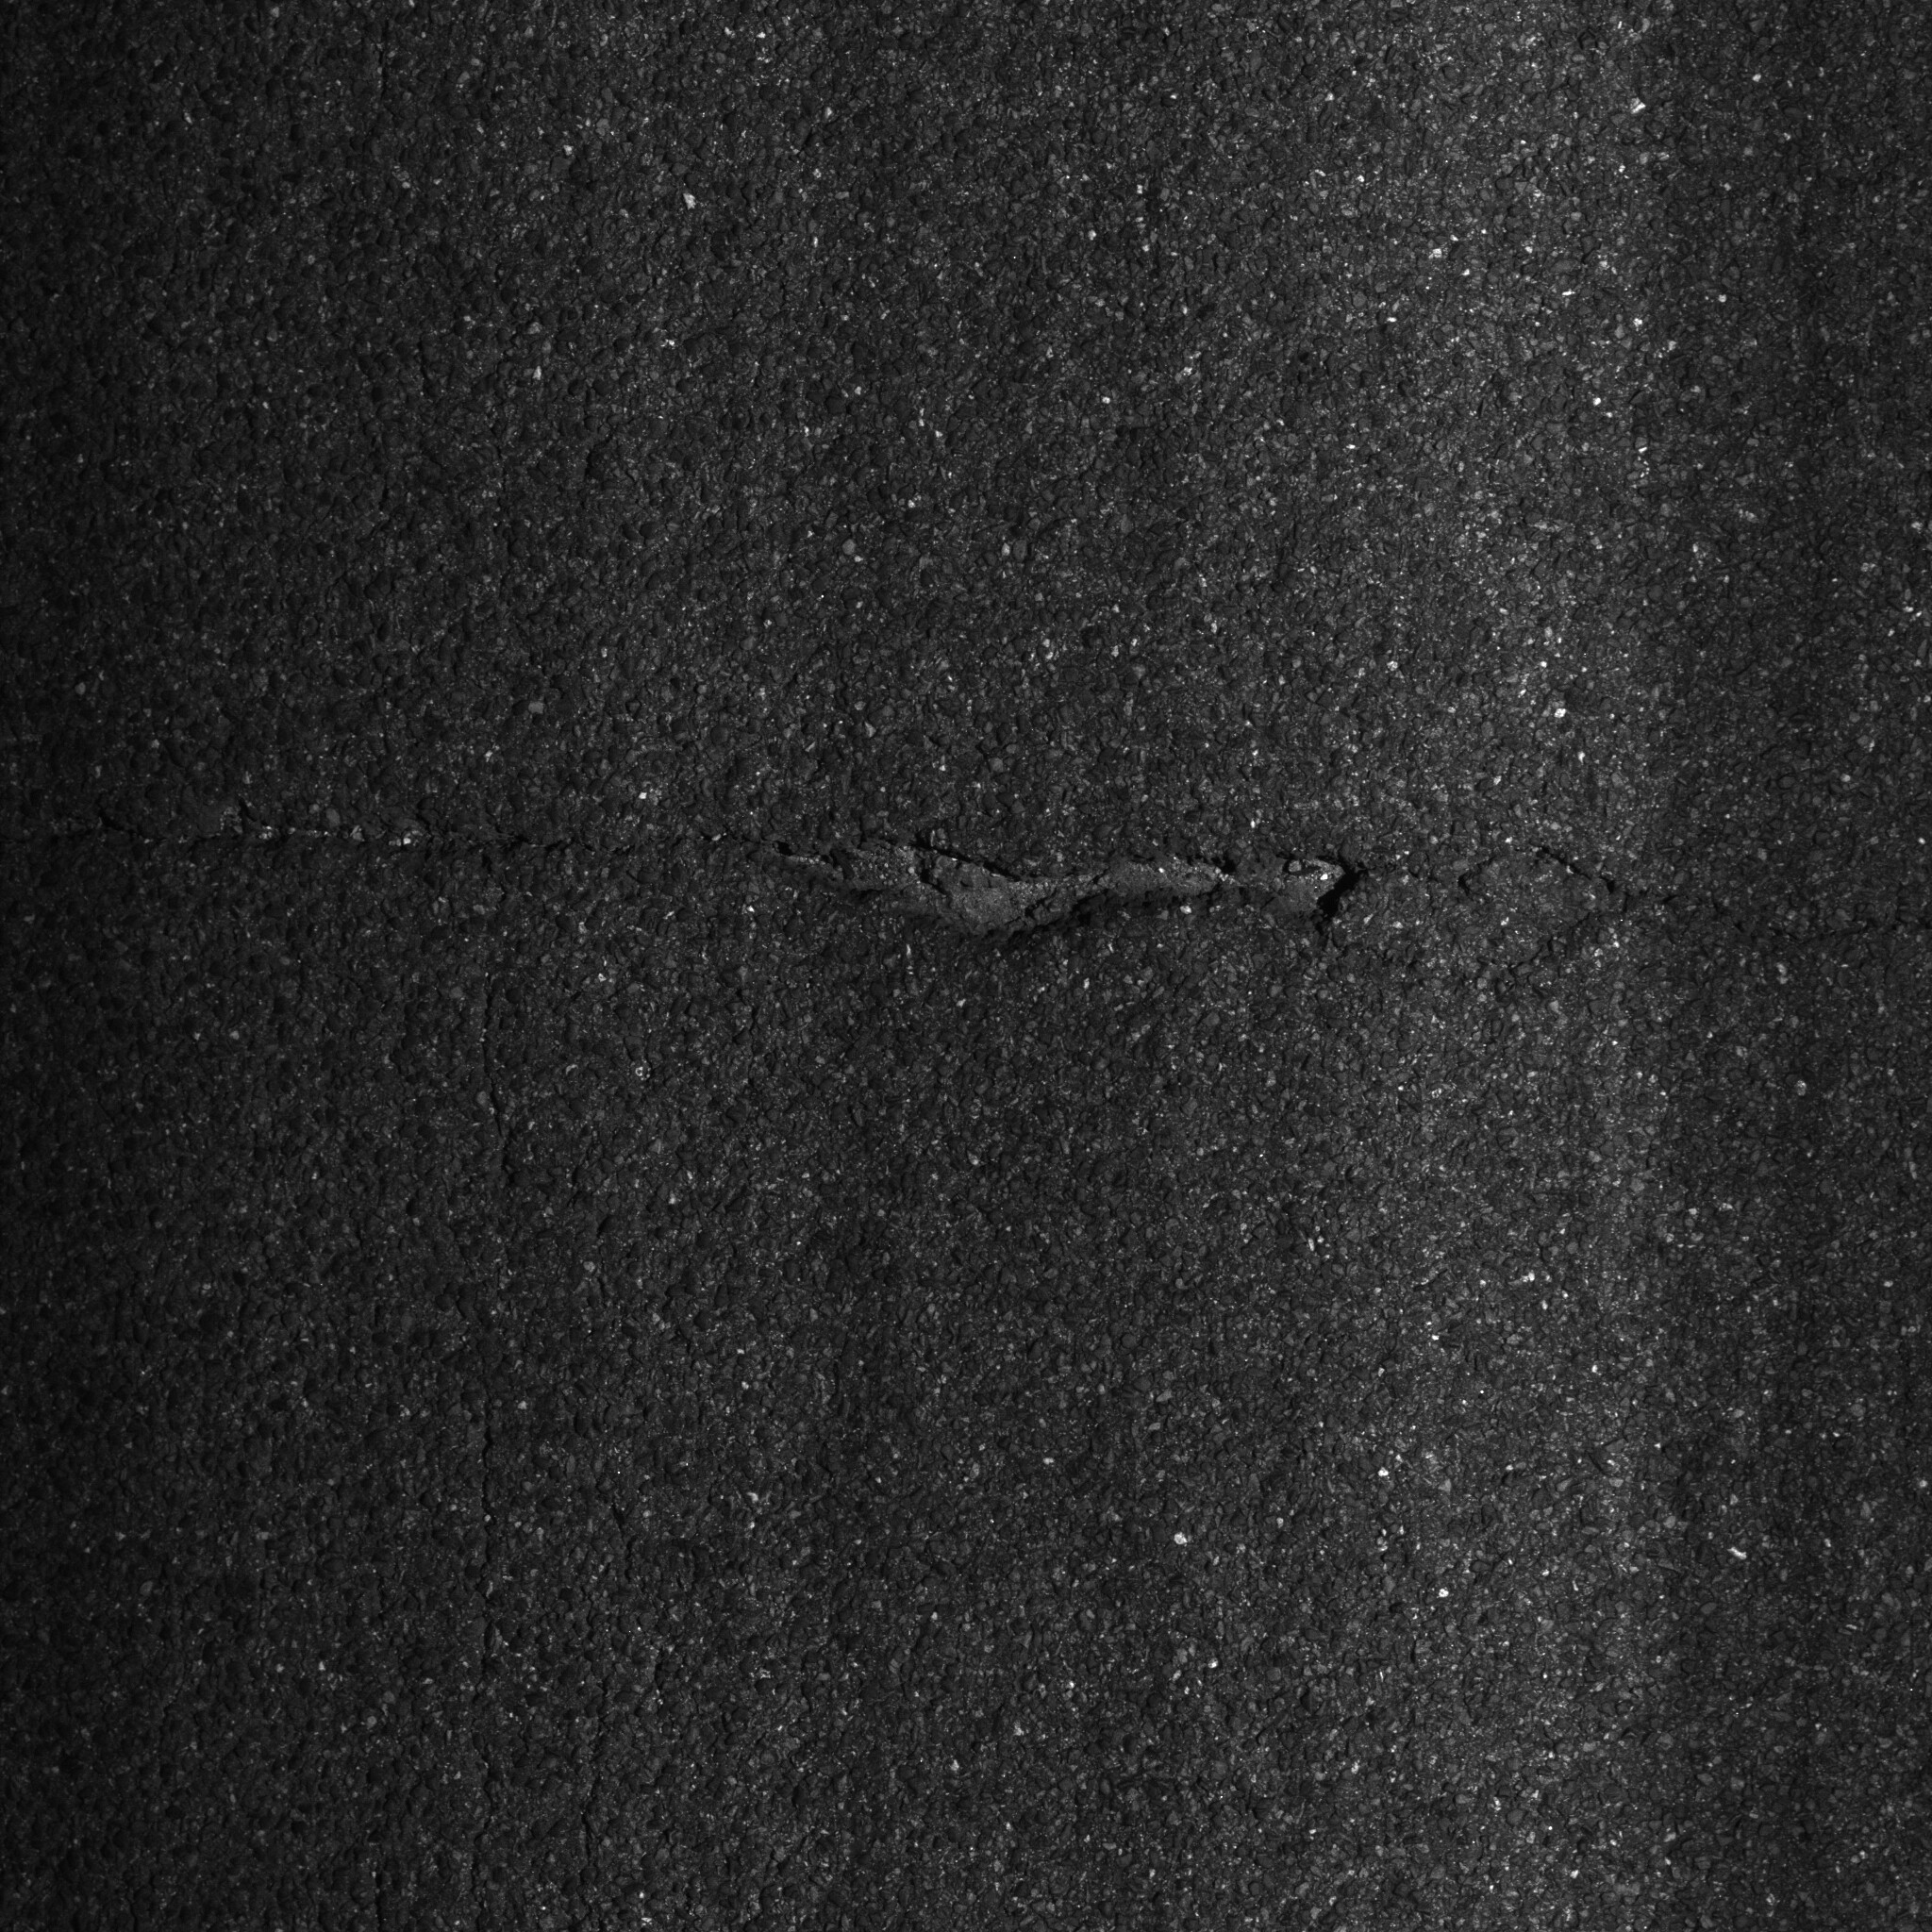transverse: (173, 787, 1785, 1003)
